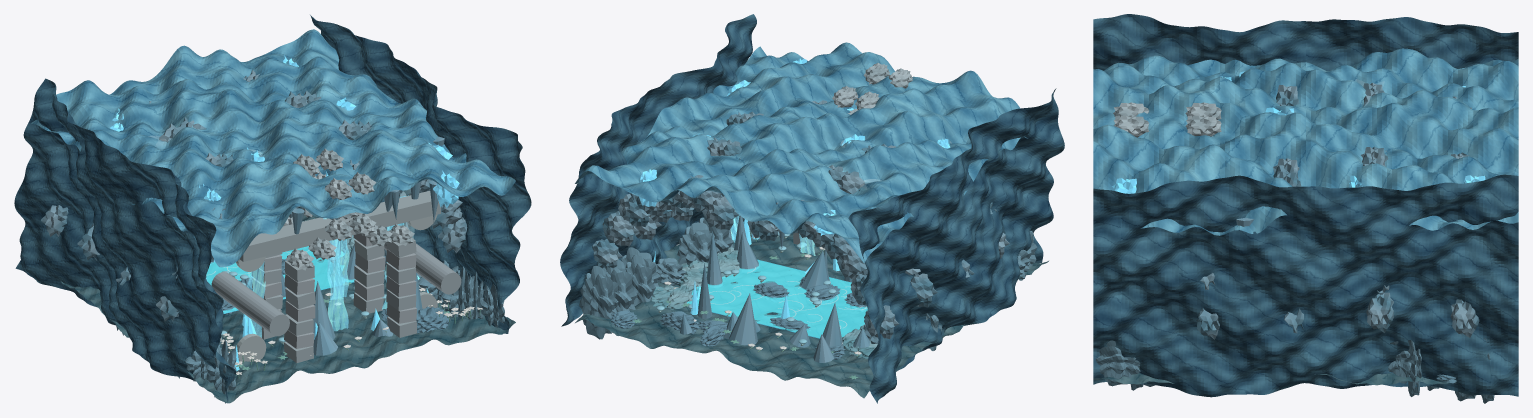
File: b2_cavern_v8.glb
3 views of the same model, side by side, from view 1: azimuth 30°, elevation 25°; view 2: azimuth 150°, elevation 25°; view 3: azimuth 270°, elevation 25° (orthographic). The views are drawn at different scales.
Visible parts, largest first — view 1: 02_vaulted_stalactite_ceiling, 03_rock_wall_left, 03_rock_wall_right, 01_organic_cave_floor, 14_ruined_temple_lintel, 12_ancient_column_0, 27_curved_waterfall_03, 11_luminous_underground_lagoon, 12_ancient_column_1, 27_curved_waterfall_04, 17_irregular_rock_rib_25, 06_erosion_rock_19 (+11 smaller); view 2: 02_vaulted_stalactite_ceiling, 03_rock_wall_left, 01_organic_cave_floor, 03_rock_wall_right, 11_luminous_underground_lagoon, 17_irregular_rock_rib_18, 17_irregular_rock_rib_02, 17_irregular_rock_rib_20, 17_irregular_rock_rib_24, 04_stalagmite_18, 20_vault_rib_0_1_1, 20_vault_rib_0_1_8 (+15 smaller); view 3: 03_rock_wall_right, 02_vaulted_stalactite_ceiling, 03_rock_wall_left, 17_irregular_rock_rib_14, 01_organic_cave_floor, 20_vault_rib_1_1_0, 20_vault_rib_0_1_0, 22_arch_keystone_0_1_4, 17_irregular_rock_rib_22, 22_arch_keystone_1_1_4, 20_vault_rib_3_1_0, 22_arch_keystone_0_-1_4 (+2 smaller).
Boxes of the visible parts, bbox=[...] form: 02_vaulted_stalactite_ceiling: bbox=[31, 29, 515, 267]; 03_rock_wall_left: bbox=[14, 78, 236, 401]; 03_rock_wall_right: bbox=[310, 15, 531, 333]; 01_organic_cave_floor: bbox=[60, 215, 515, 403]; 14_ruined_temple_lintel: bbox=[239, 191, 440, 261]; 12_ancient_column_0: bbox=[211, 272, 289, 336]; 27_curved_waterfall_03: bbox=[323, 218, 348, 331]; 11_luminous_underground_lagoon: bbox=[206, 246, 355, 313]; 12_ancient_column_1: bbox=[384, 243, 461, 294]; 27_curved_waterfall_04: bbox=[330, 239, 349, 299]; 17_irregular_rock_rib_25: bbox=[205, 339, 236, 403]; 06_erosion_rock_19: bbox=[416, 306, 450, 333]; 02_vaulted_stalactite_ceiling: bbox=[575, 42, 1027, 262]; 03_rock_wall_left: bbox=[848, 88, 1064, 403]; 01_organic_cave_floor: bbox=[575, 233, 1048, 398]; 03_rock_wall_right: bbox=[560, 14, 756, 326]; 11_luminous_underground_lagoon: bbox=[687, 259, 867, 338]; 17_irregular_rock_rib_18: bbox=[579, 265, 616, 339]; 17_irregular_rock_rib_02: bbox=[677, 222, 719, 264]; 17_irregular_rock_rib_20: bbox=[625, 255, 655, 306]; 17_irregular_rock_rib_24: bbox=[606, 259, 637, 335]; 04_stalagmite_18: bbox=[729, 293, 757, 345]; 20_vault_rib_0_1_1: bbox=[602, 211, 638, 246]; 20_vault_rib_0_1_8: bbox=[702, 196, 739, 229]; 03_rock_wall_right: bbox=[1093, 174, 1518, 397]; 02_vaulted_stalactite_ceiling: bbox=[1093, 48, 1518, 235]; 03_rock_wall_left: bbox=[1093, 14, 1518, 70]; 17_irregular_rock_rib_14: bbox=[1096, 340, 1140, 386]; 01_organic_cave_floor: bbox=[1093, 373, 1448, 385]; 20_vault_rib_1_1_0: bbox=[1366, 292, 1393, 332]; 20_vault_rib_0_1_0: bbox=[1450, 299, 1479, 337]; 22_arch_keystone_0_1_4: bbox=[1185, 115, 1221, 136]; 17_irregular_rock_rib_22: bbox=[1404, 340, 1421, 396]; 22_arch_keystone_1_1_4: bbox=[1114, 115, 1149, 137]; 20_vault_rib_3_1_0: bbox=[1196, 308, 1219, 339]; 22_arch_keystone_0_-1_4: bbox=[1185, 102, 1221, 119].
Bounding box in the file's own units: 20.29 × 11.74 × 20.
9 materials, 3 textured.
